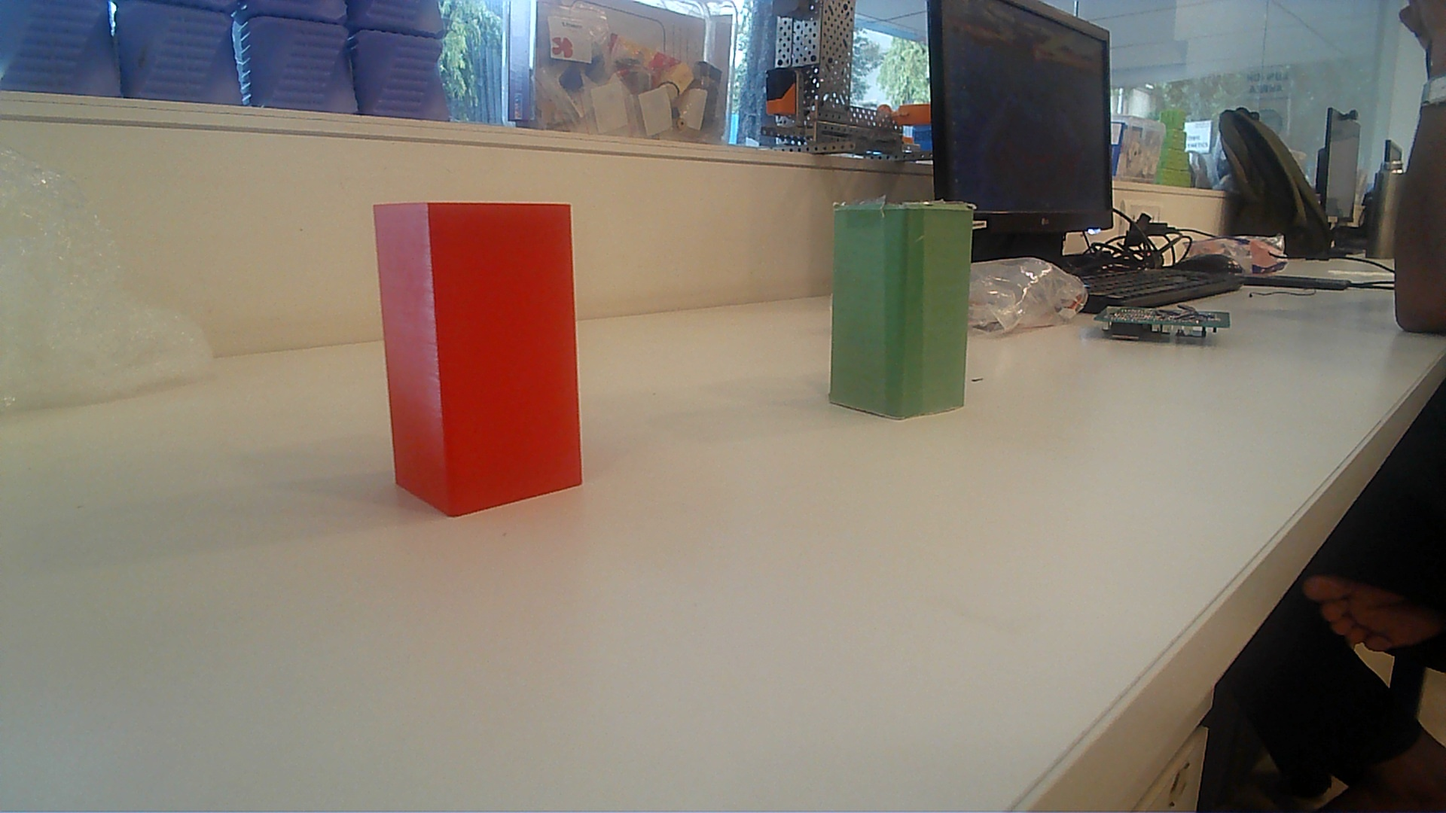red: (366, 190, 602, 523)
